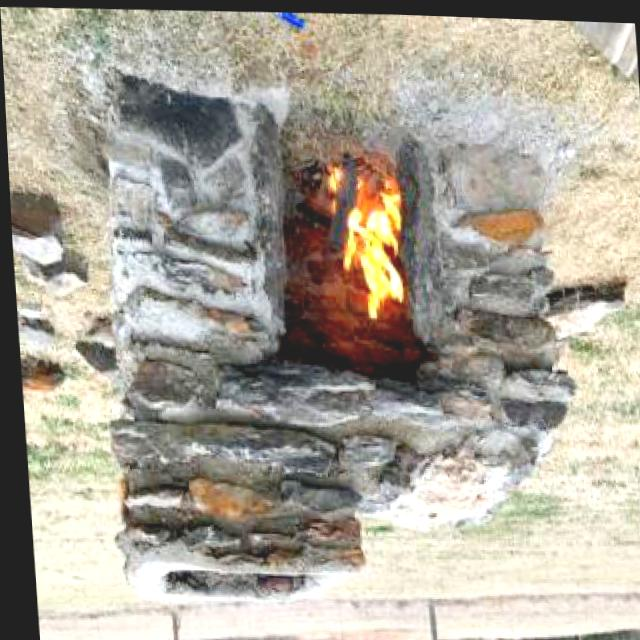helmet: (319, 152, 414, 316)
